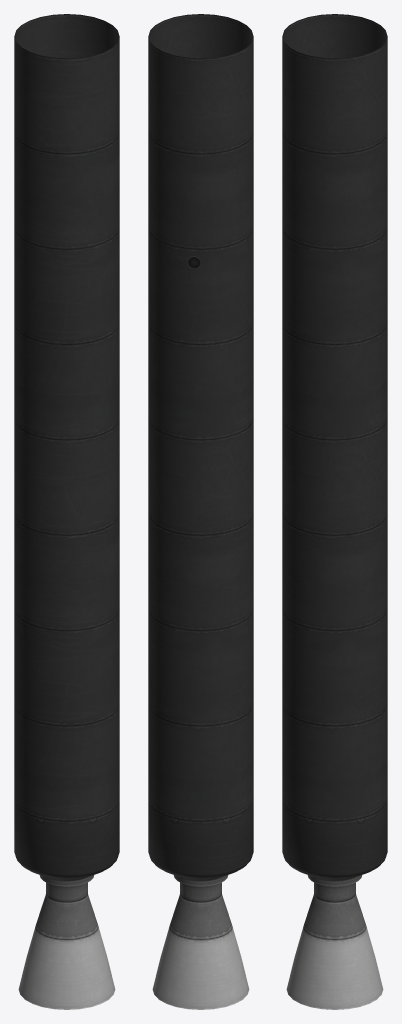
File: black_forest_srb_s0_2.obj
3 renders of one model, left to right at view 1: azimuth 30°, elevation 25°; view 2: azimuth 150°, elevation 25°; view 3: azimuth 330°, elevation 25°, orthographic.
Parts seen in each view (by area): view 1: mesh1, nozzle1; view 2: mesh1, nozzle1; view 3: mesh1, nozzle1.
Part boxes in pixels (box(x1,y1,x2,y2)): mesh1: box(14, 14, 119, 886); nozzle1: box(18, 882, 115, 1009); mesh1: box(148, 14, 253, 886); nozzle1: box(152, 882, 249, 1009); mesh1: box(282, 14, 387, 886); nozzle1: box(286, 882, 383, 1009).
Bounding box in the file's own units: 0.625 × 6.25 × 0.625.
